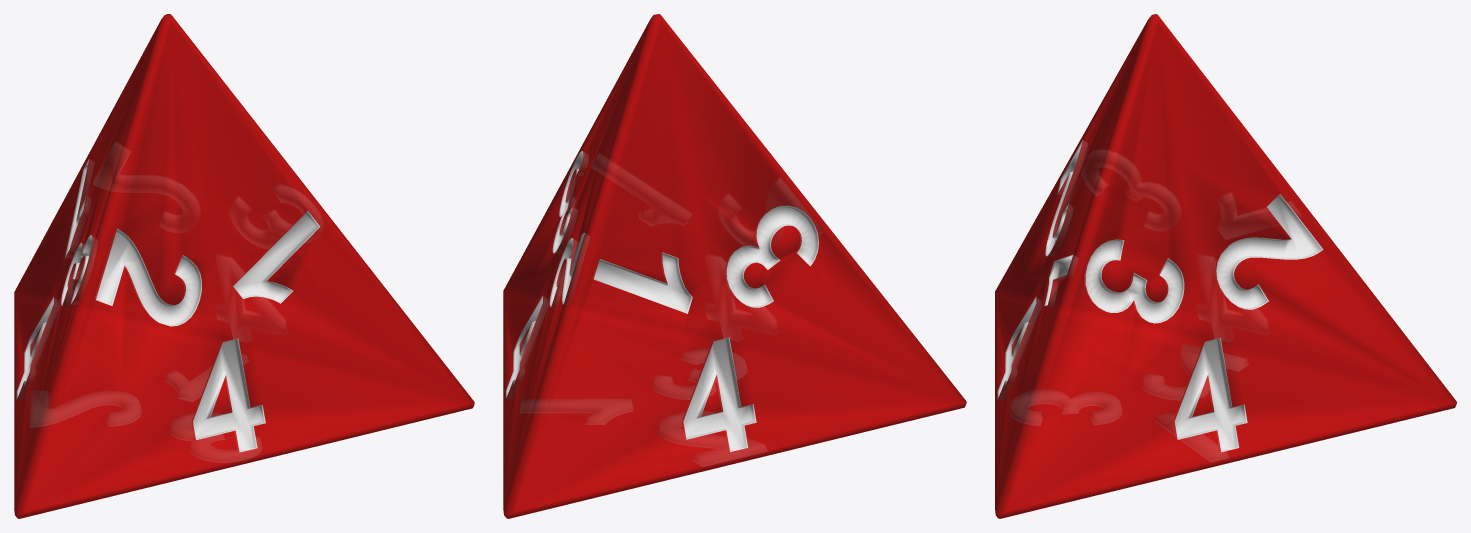
3 views of the same model, side by side, from view 1: azimuth 30°, elevation 25°; view 2: azimuth 150°, elevation 25°; view 3: azimuth 270°, elevation 25° (orthographic).
Visible parts, largest first — view 1: 4_Sided; view 2: 4_Sided; view 3: 4_Sided.
Part boxes in pixels (x1,y1,x2,y2): 4_Sided: (14,14,474,518); 4_Sided: (503,14,966,518); 4_Sided: (995,14,1456,518).
Size of the model in its own units: 10.73 by 8.76 by 9.31.
